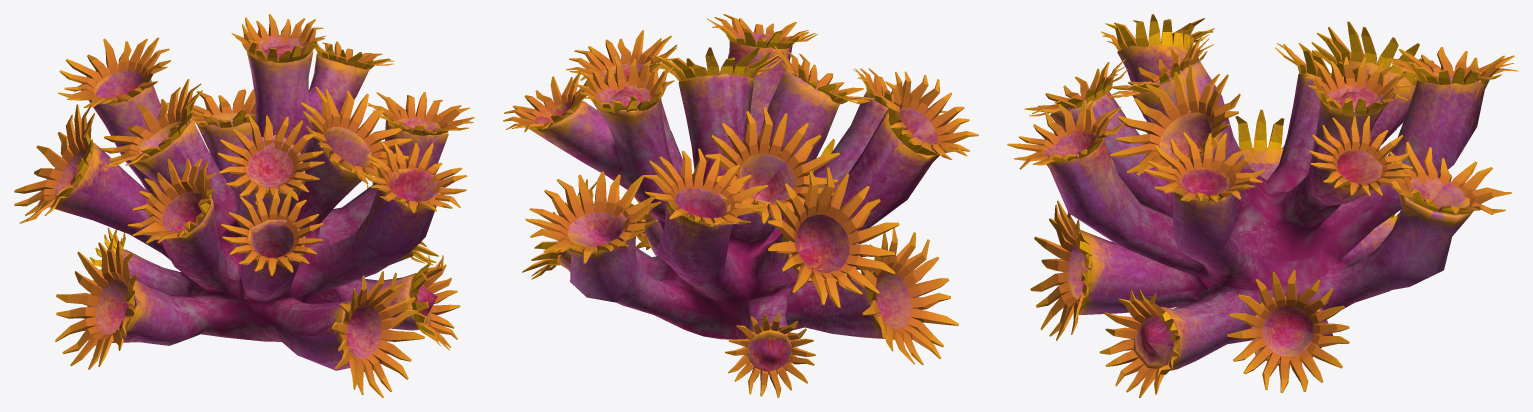
3 views of the same model, side by side, from view 1: azimuth 30°, elevation 25°; view 2: azimuth 150°, elevation 25°; view 3: azimuth 270°, elevation 25° (orthographic). The views are drawn at different scales.
Parts seen in each view (by area): view 1: sun_coral; view 2: sun_coral; view 3: sun_coral.
Part boxes in pixels (x1,y1,x2,y2): sun_coral: (14,14,474,397); sun_coral: (503,14,978,397); sun_coral: (1007,14,1518,397).
Size of the model in its own units: 15.47 by 10.34 by 16.82.
Materials: 1 (1 with a texture image).
